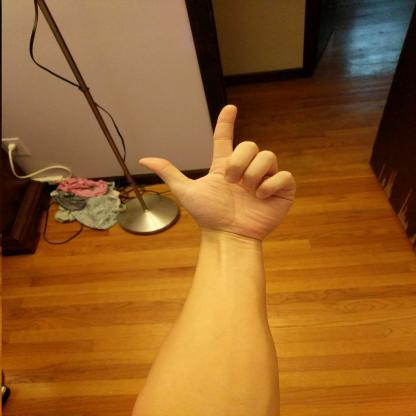L: (134, 102, 300, 246)
